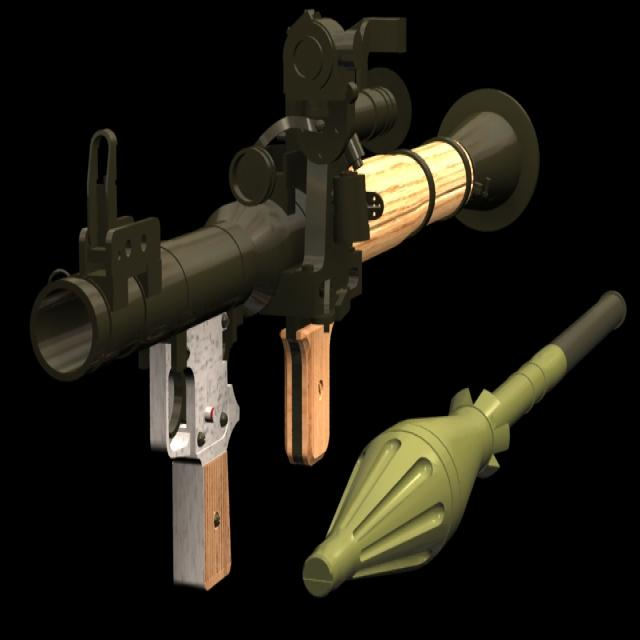Gun: (14, 9, 630, 588)
